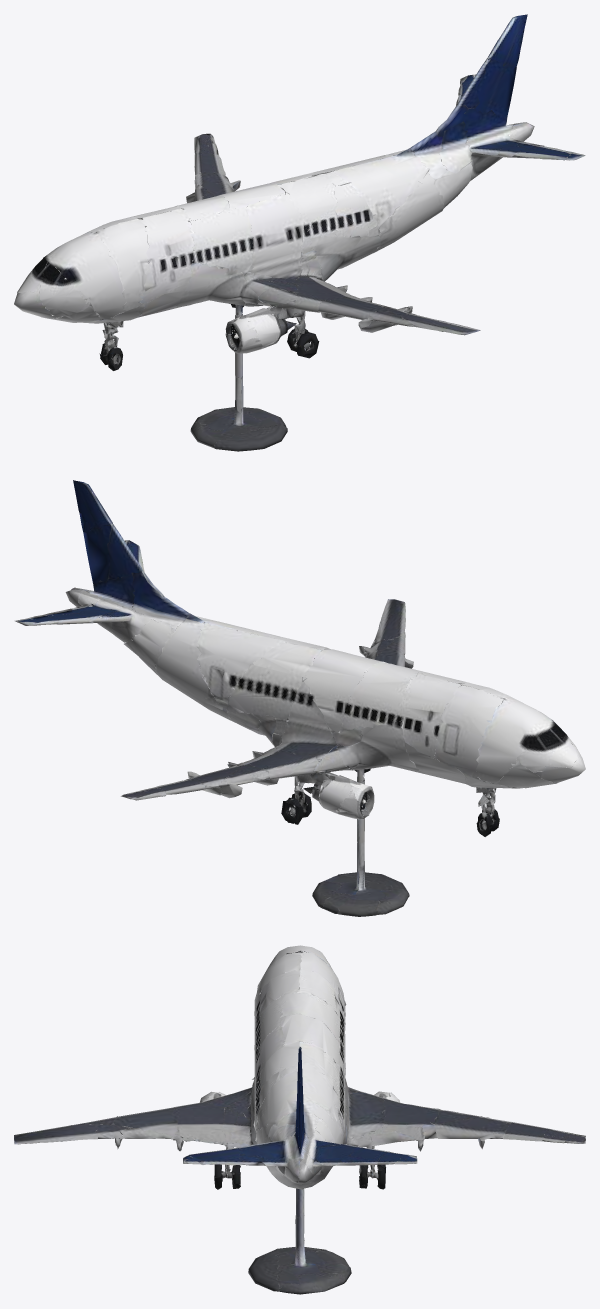
The model's file is co_airliner_p.glb.
The picture shows the model from 3 angles, top to bottom: view 1: azimuth 30°, elevation 25°; view 2: azimuth 150°, elevation 25°; view 3: azimuth 270°, elevation 25°; orthographic projection. The views are drawn at different scales.
Parts seen in each view (by area): view 1: Mesh_0; view 2: Mesh_0; view 3: Mesh_0.
Part boxes in pixels (bbox=[...]): Mesh_0: bbox=[14, 14, 585, 451]; Mesh_0: bbox=[14, 480, 585, 916]; Mesh_0: bbox=[14, 945, 585, 1294].
Bounding box in the file's own units: 1.9 × 1.21 × 1.71.
1 material, 1 textured.
